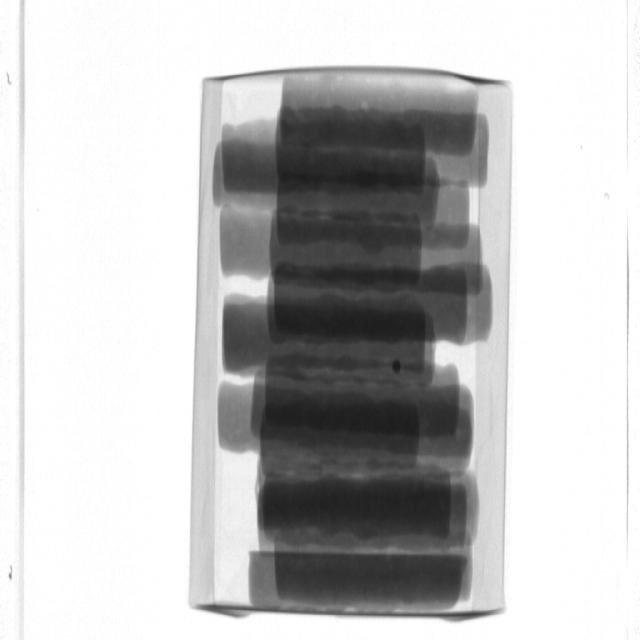ym: (392, 359, 402, 373)
